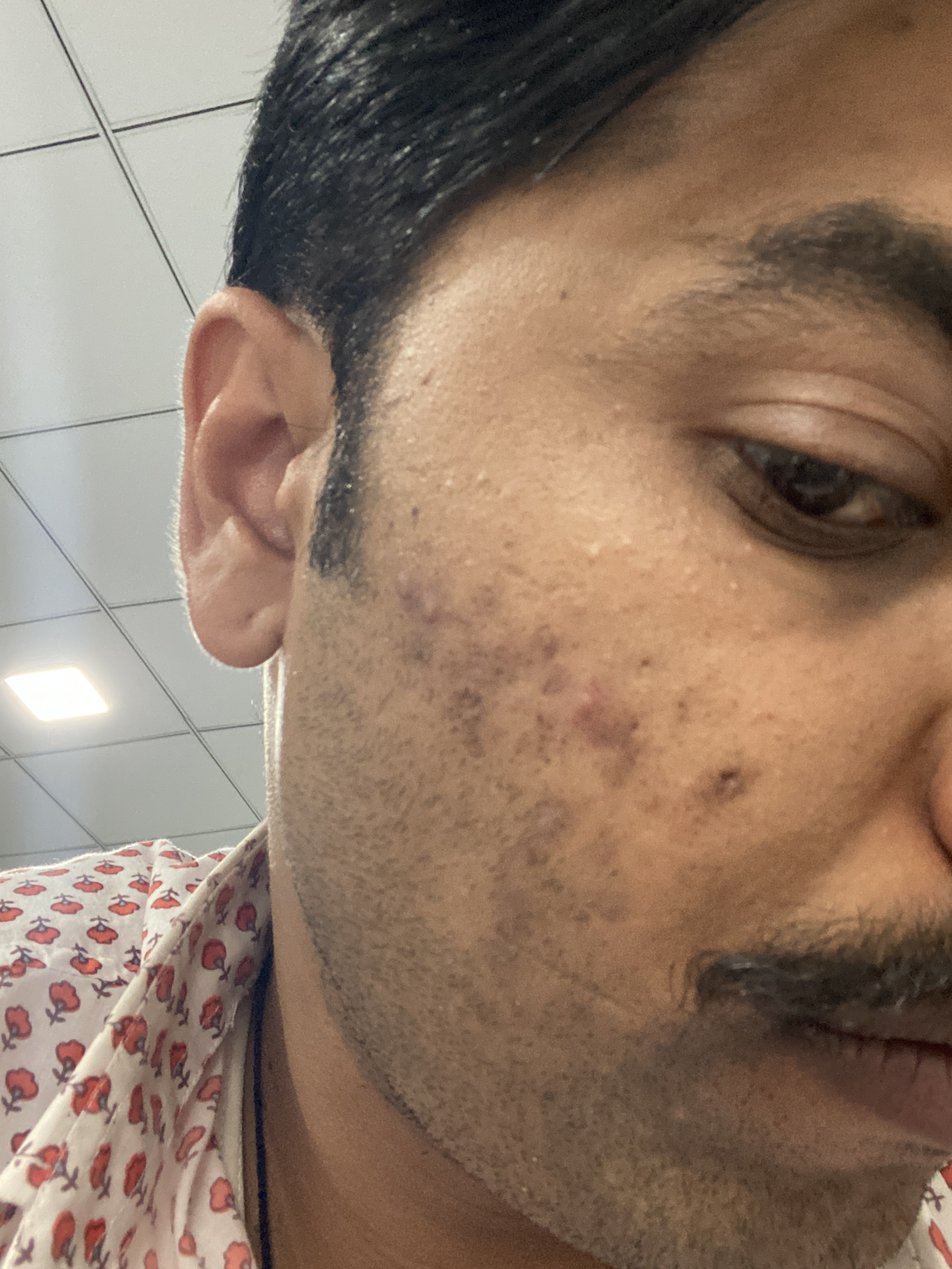papule: (572, 688, 604, 731)
